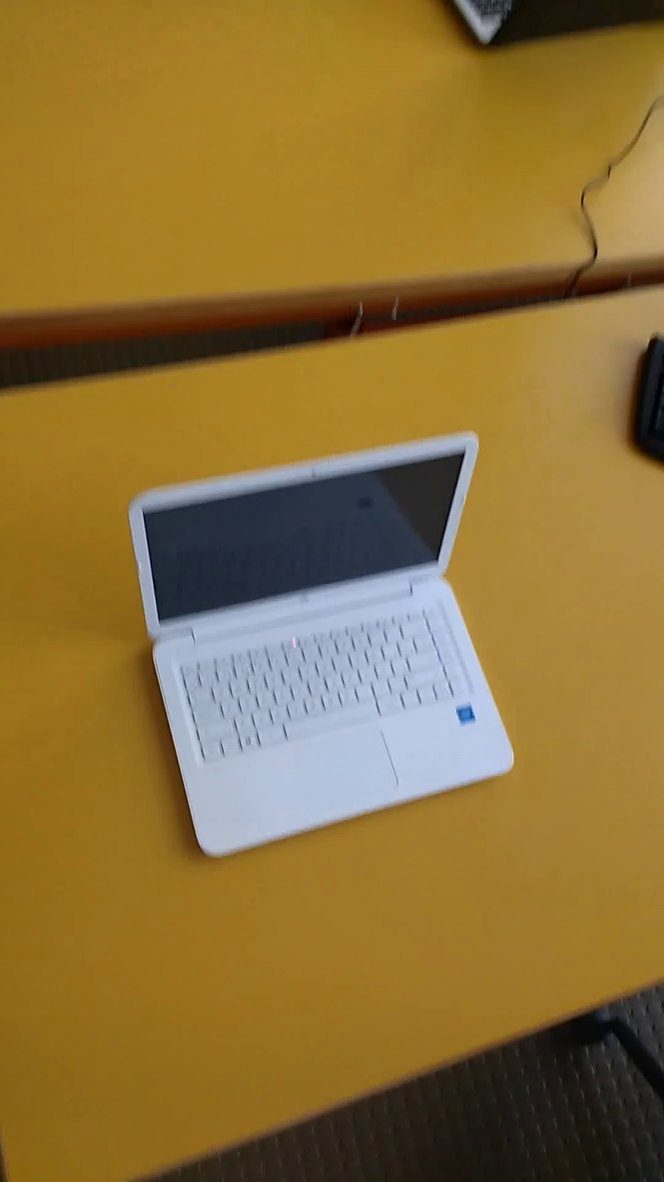laptop: (124, 422, 530, 864)
